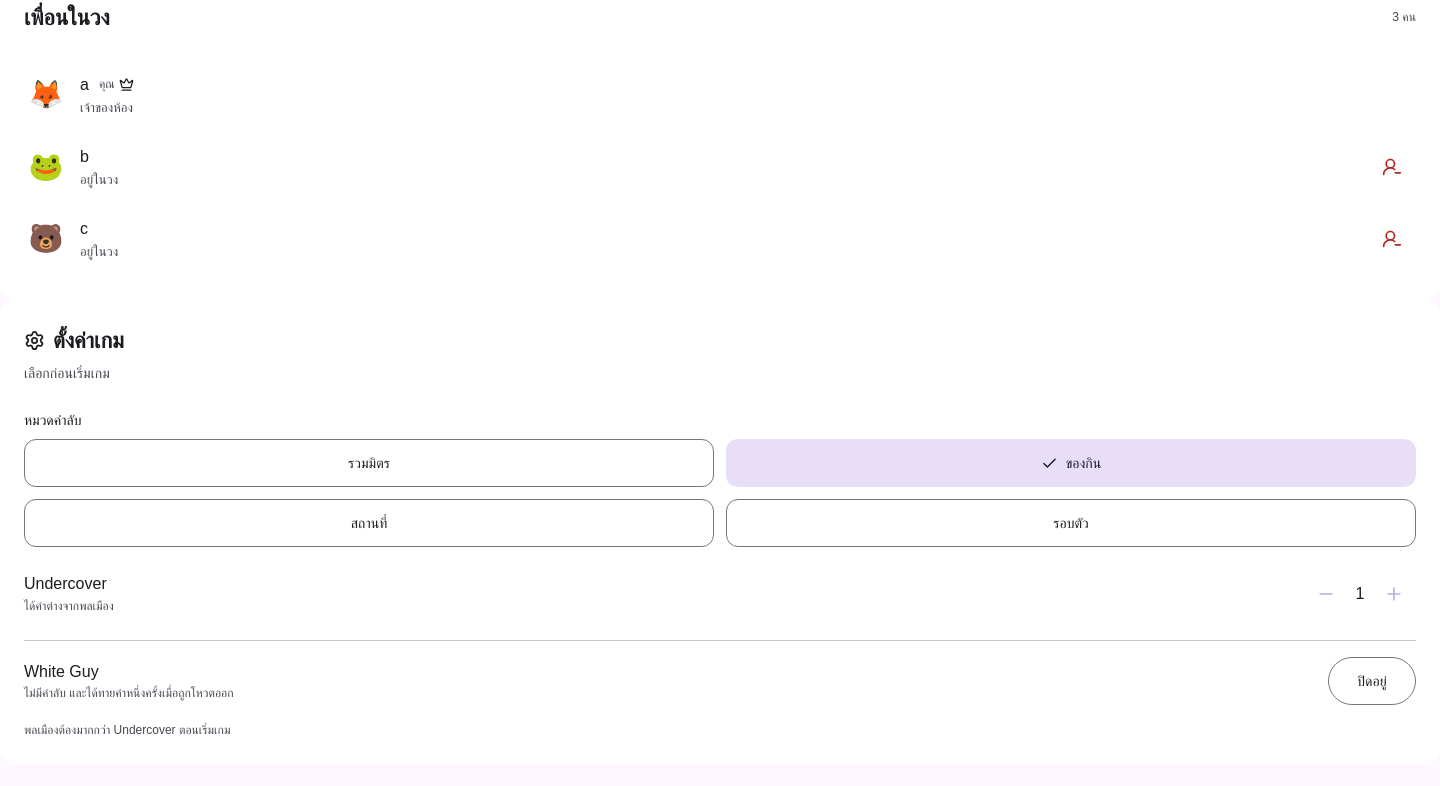
Test: removing a player requires confirmation and retains the dialog on failure
What coordinates should you click on to do the following:
click the button named "นำ b ออก"
I would click on:
 (1392, 167)
Its box is [1368,143,1416,191].
(page scrolled)
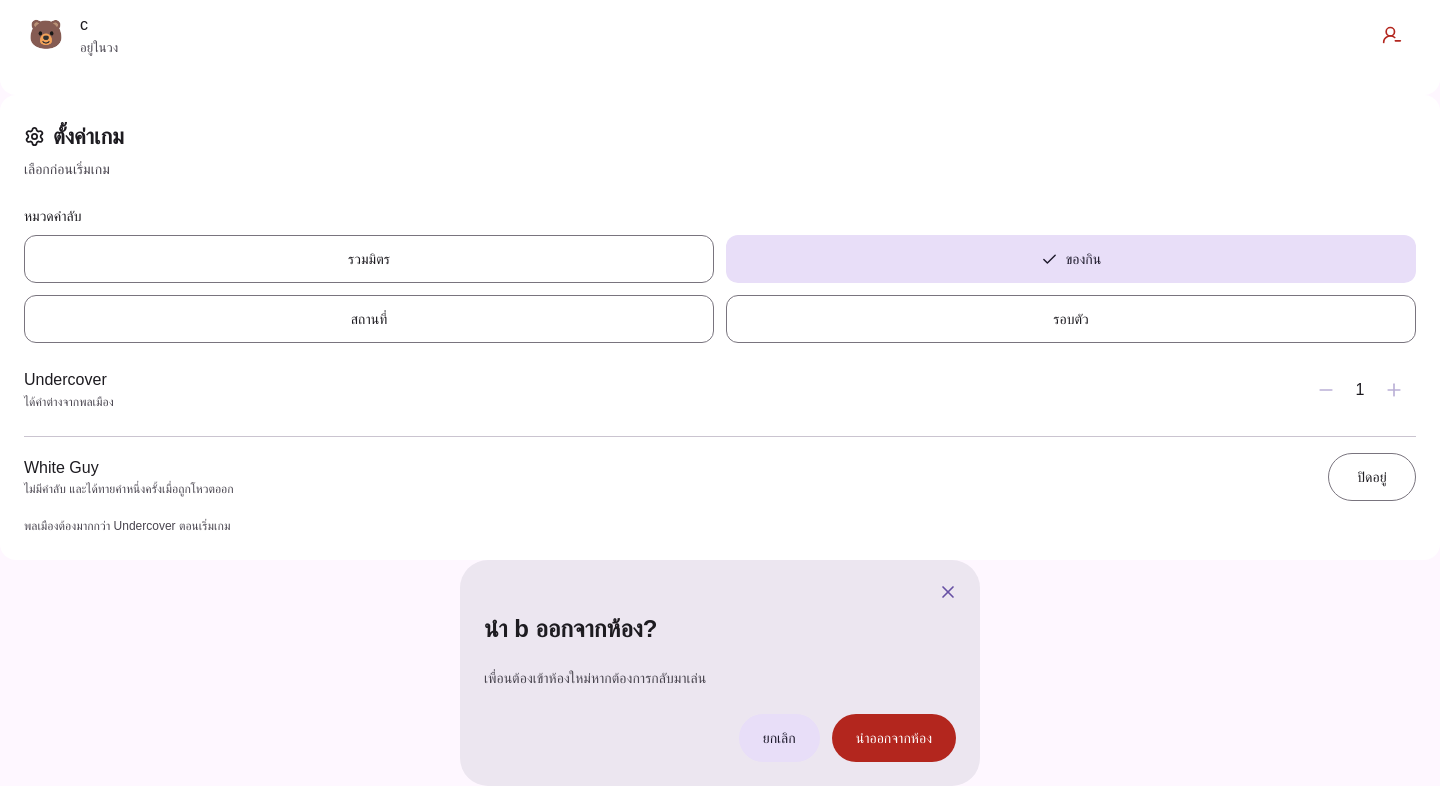
What coordinates should you click on to do the following:
click the button "นำออกจากห้อง"
I would click on:
 (894, 738)
Its box is [832,714,956,762].
(page scrolled)
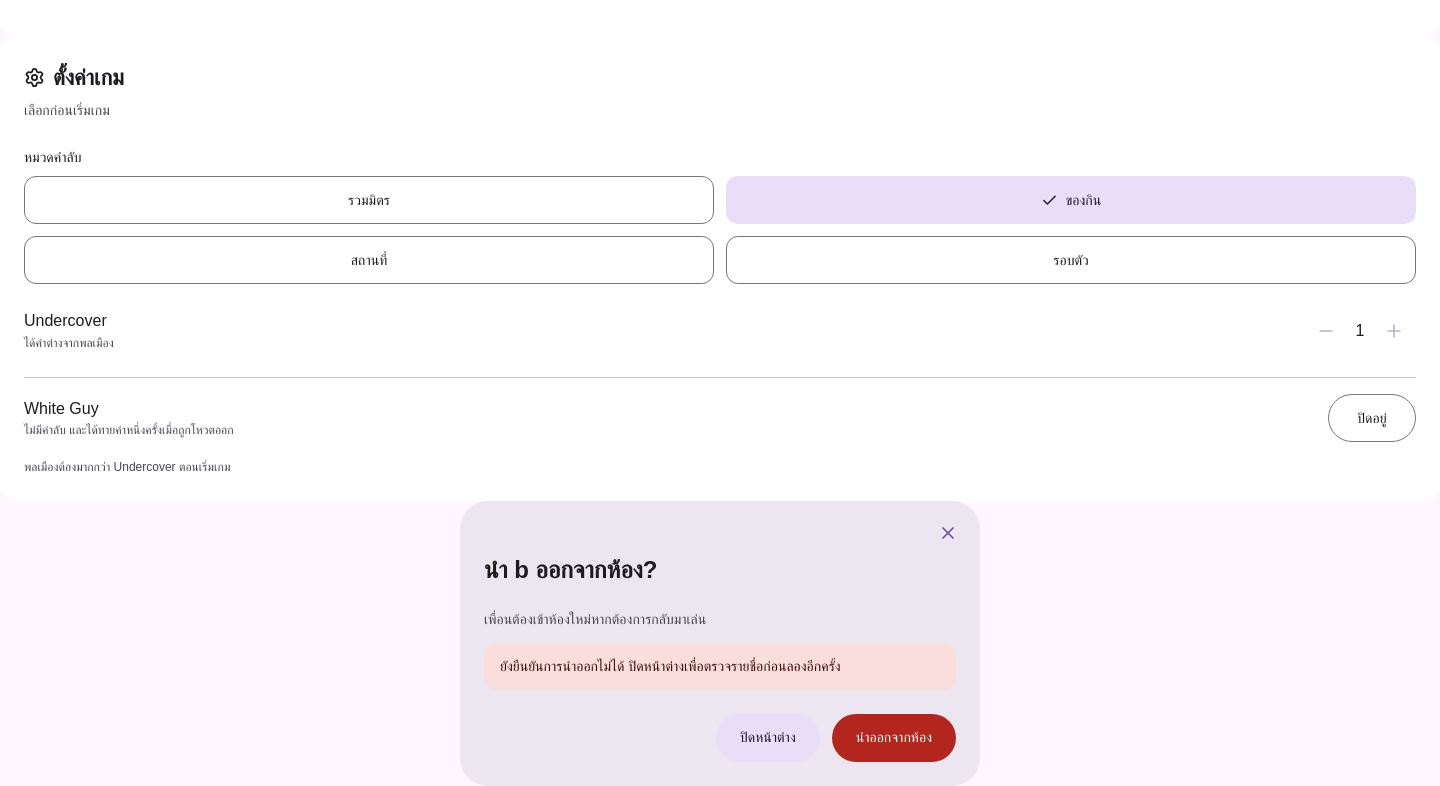
Expected: the dialog "นำ b ออกจากห้อง?" is shown, [460,501,980,785]
What coordinates should you click on to do the following:
click the button "นำออกจากห้อง"
I would click on:
 (894, 738)
Its box is [832,714,956,762].
(page scrolled)
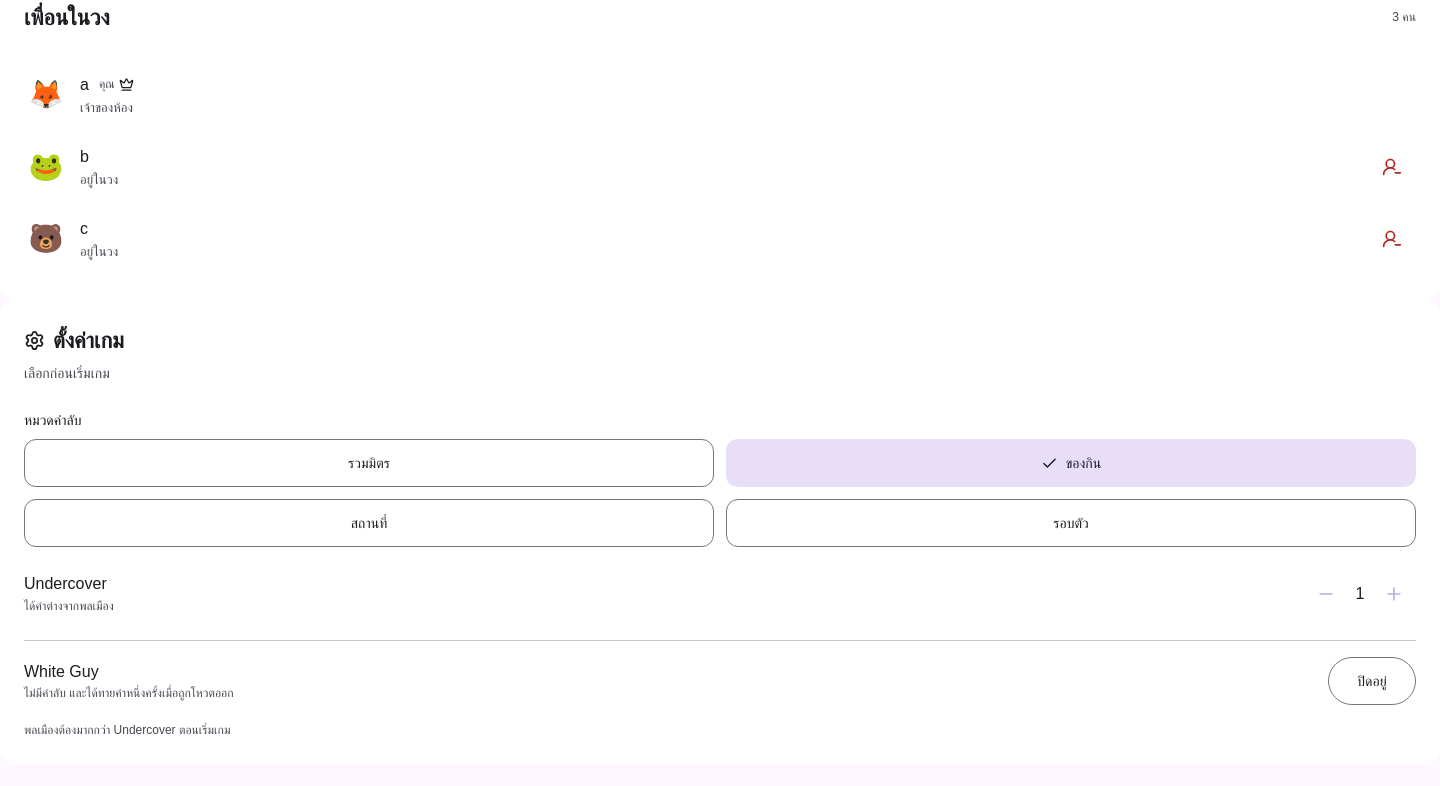
Expected: the dialog is gone
